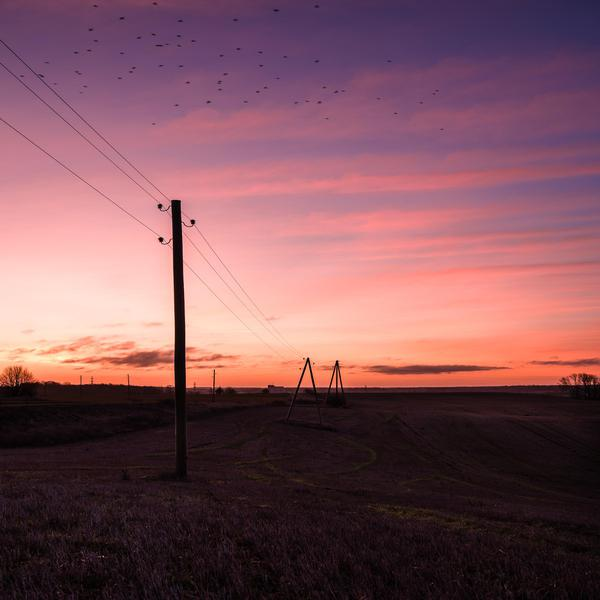utility_pole: (150, 191, 199, 261)
